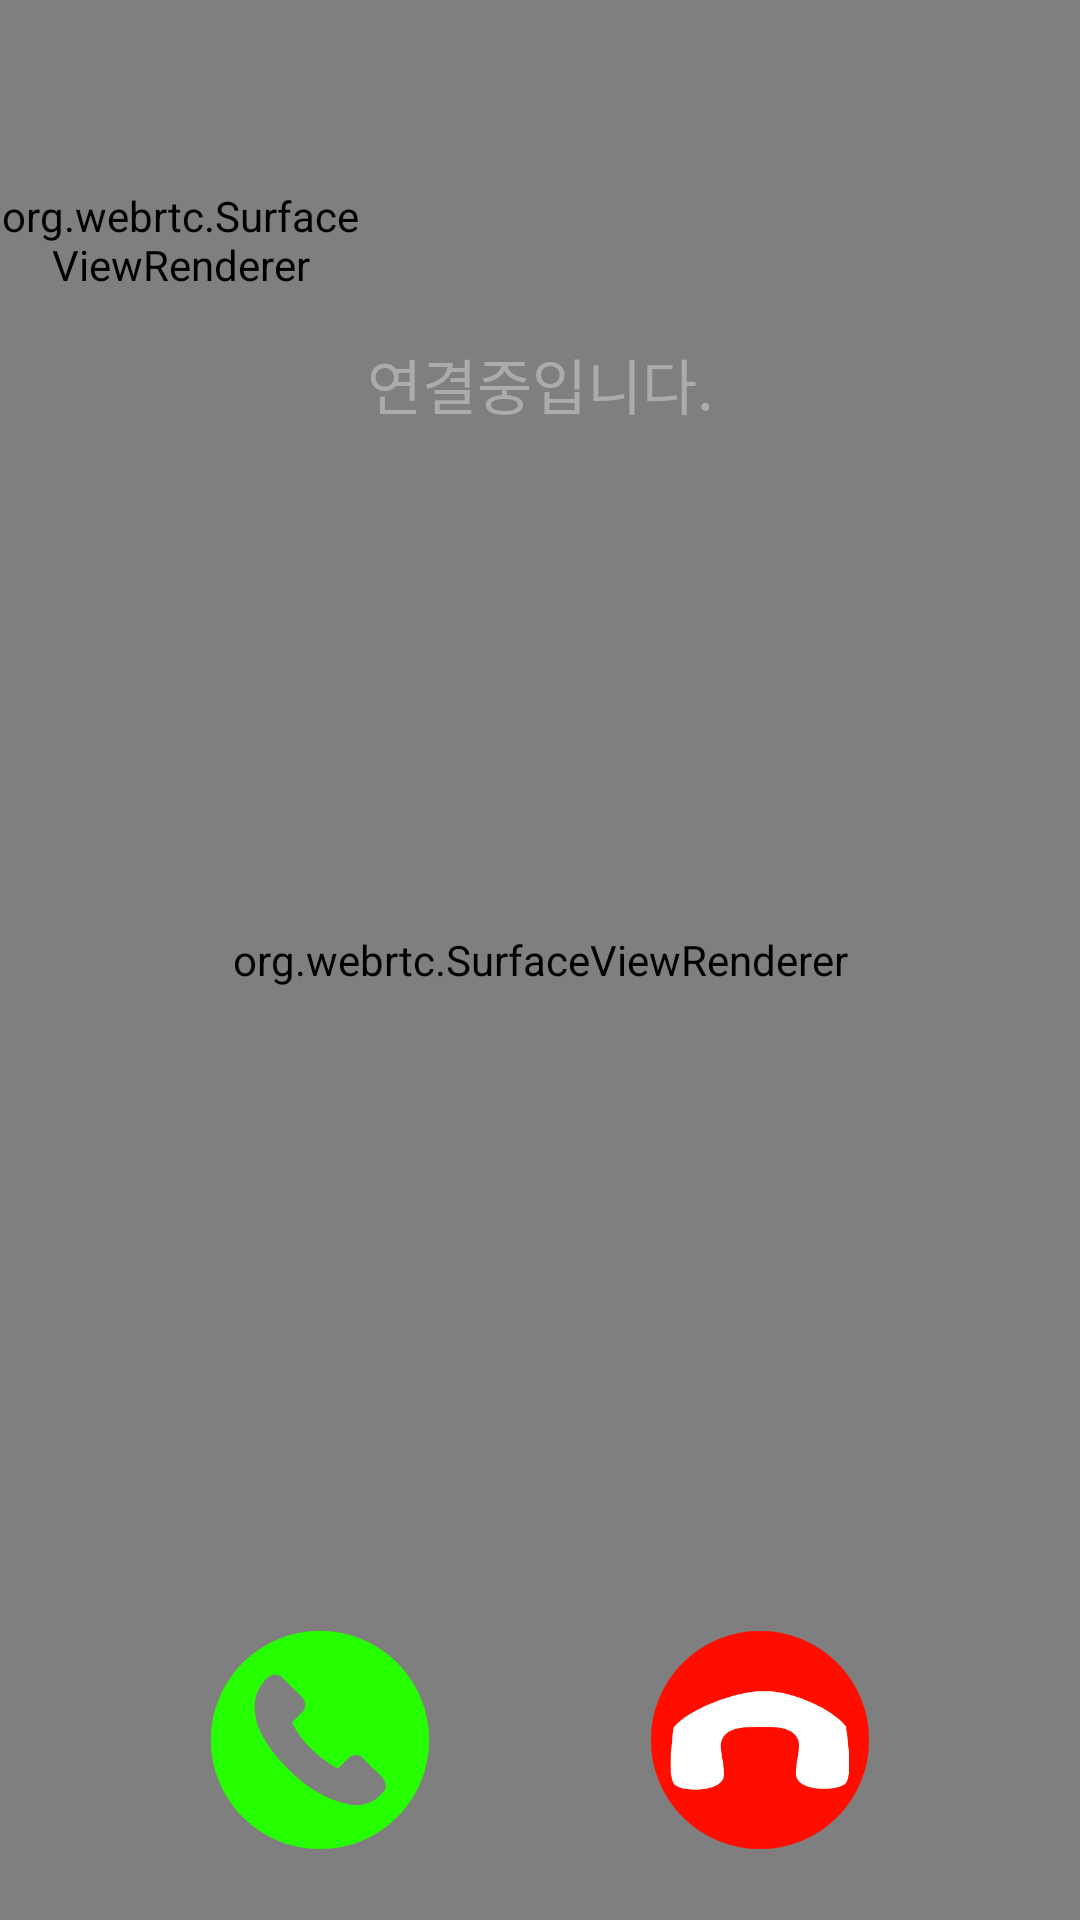

Screen size 1080 × 1920. Icon name, then its center in pixels as (x=x, y=y):
call: (x=320, y=1740)
end call: (x=760, y=1740)
